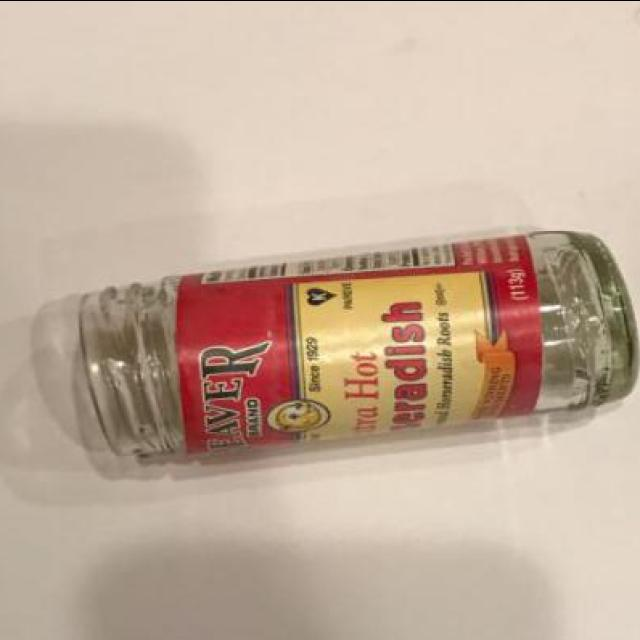kaca: (77, 230, 640, 455)
